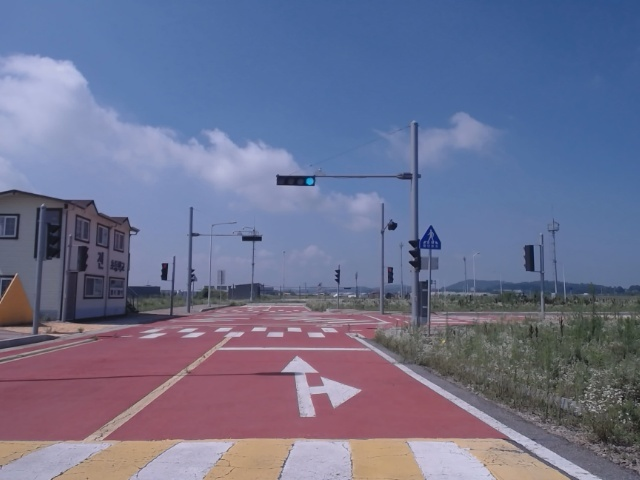straight_green_4: (276, 176, 315, 186)
